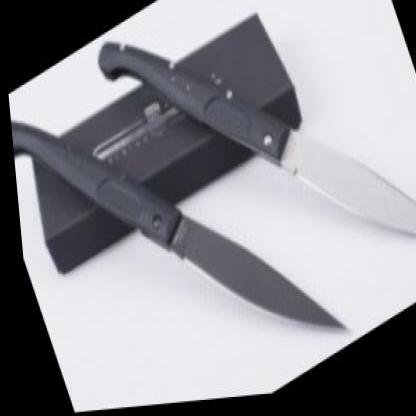knife: (154, 149, 346, 400), (263, 55, 415, 349)
